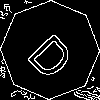D: (25, 25, 83, 83)
